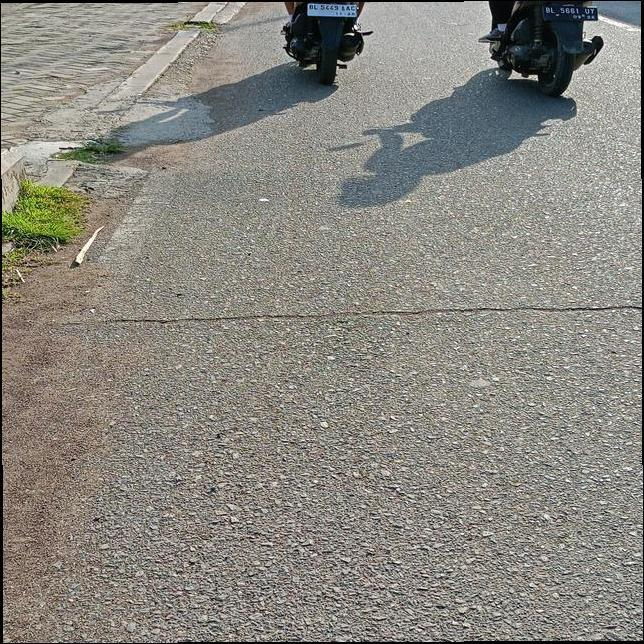Melintang: (82, 294, 644, 336)
